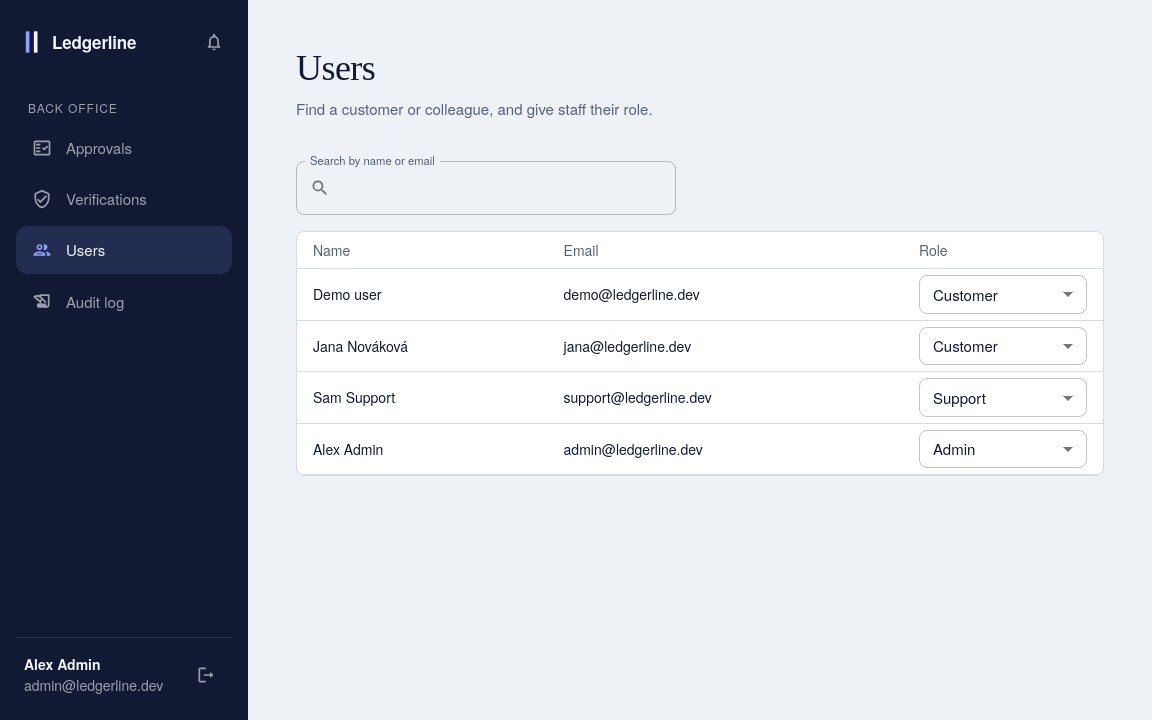
Scenario: Users › lets an admin change a role
Click the dropdown named "Role of Jana Nováková" at (965, 346), box [933,335,998,356]
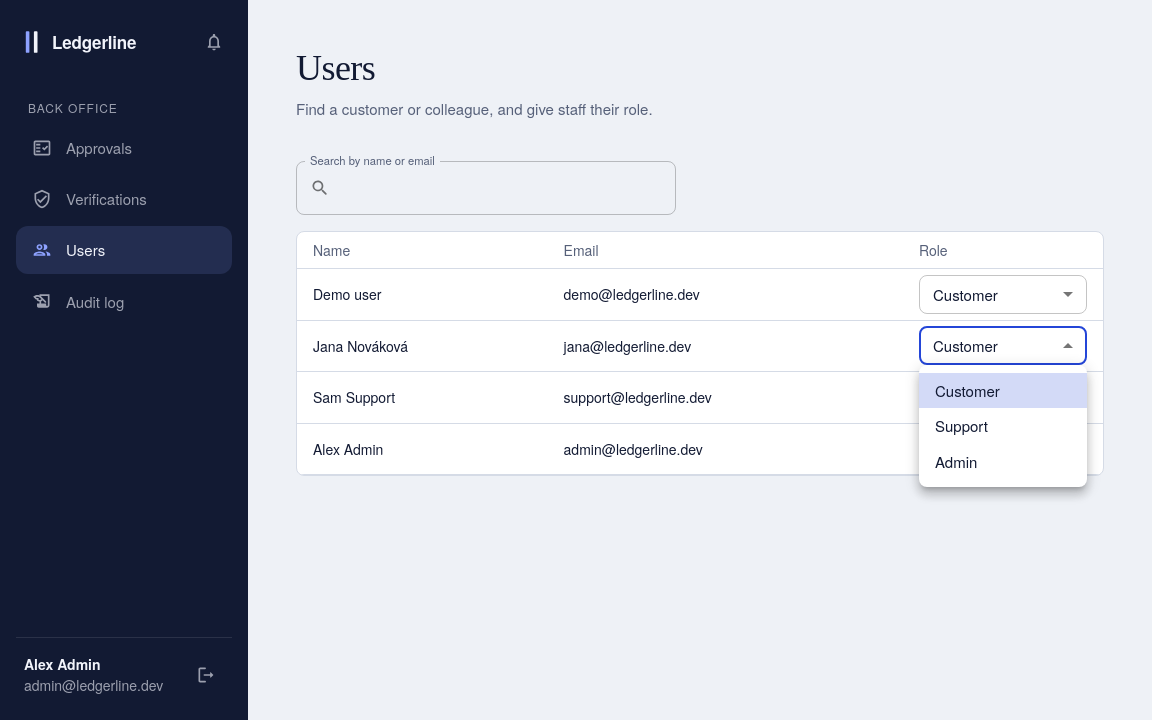
Click the option "Support" at (962, 426), box [935,415,988,436]
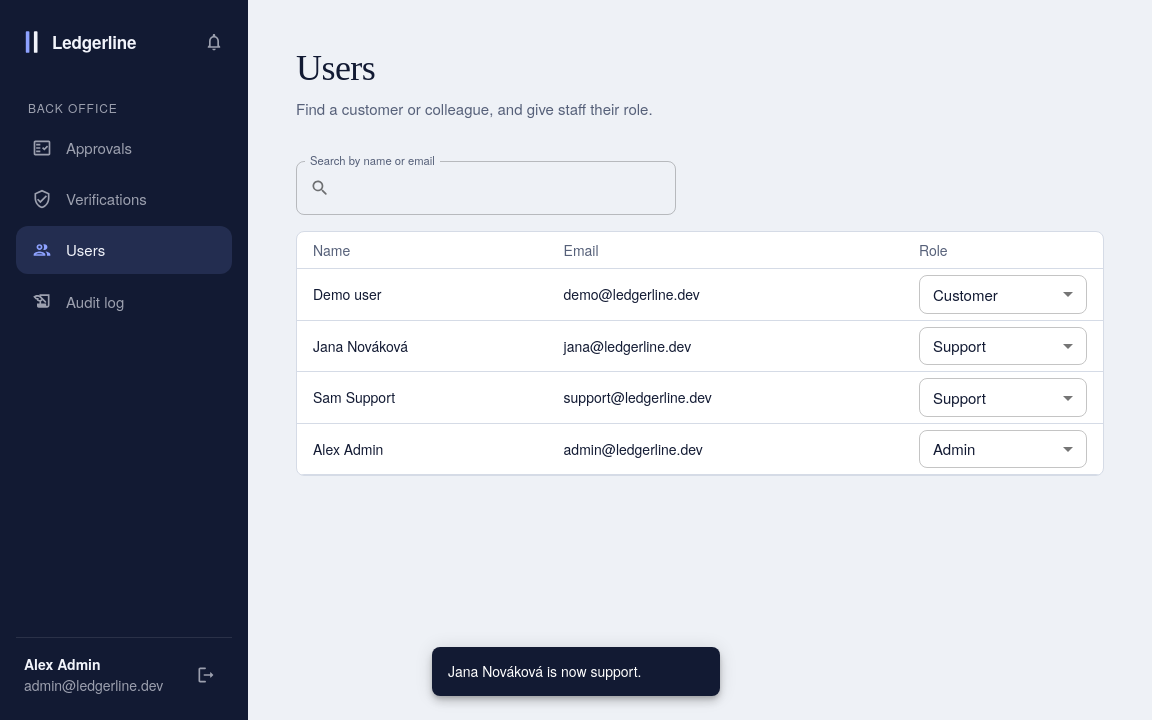
Now the text "Jana Nováková is now support." is shown, box [448,661,641,681]
